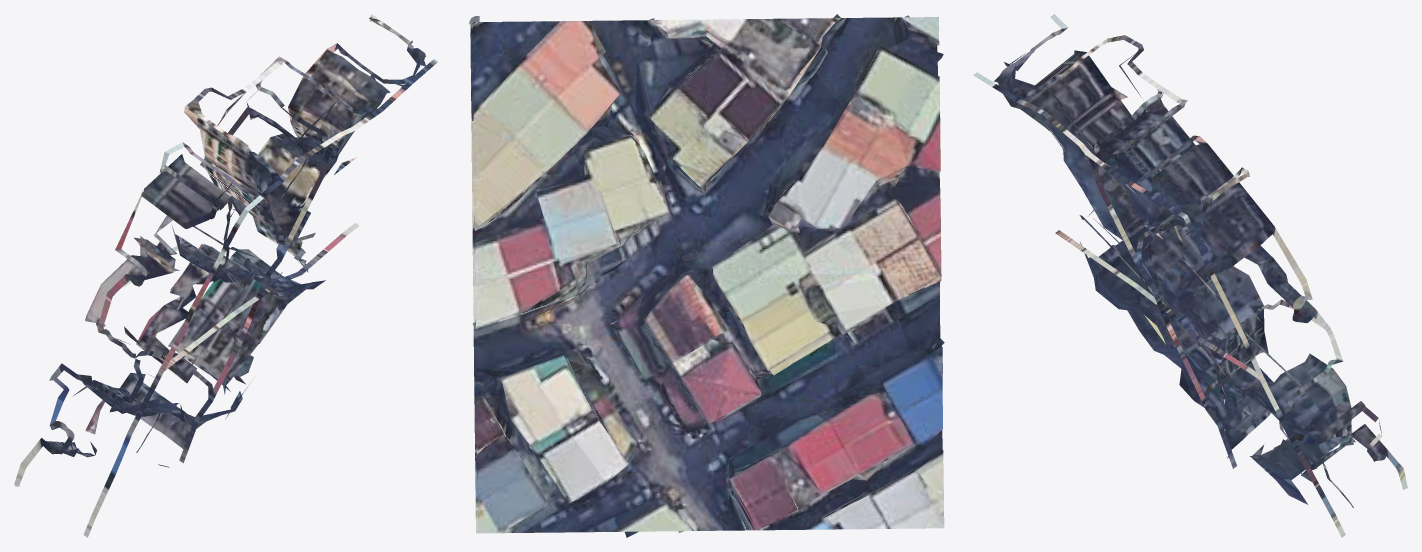
3 views of the same model, side by side, from view 1: azimuth 30°, elevation 25°; view 2: azimuth 150°, elevation 25°; view 3: azimuth 270°, elevation 25° (orthographic). The views are drawn at different scales.
Size of the model in its own units: 83.04 by 78.89 by 75.37.
1 material, 1 textured.
